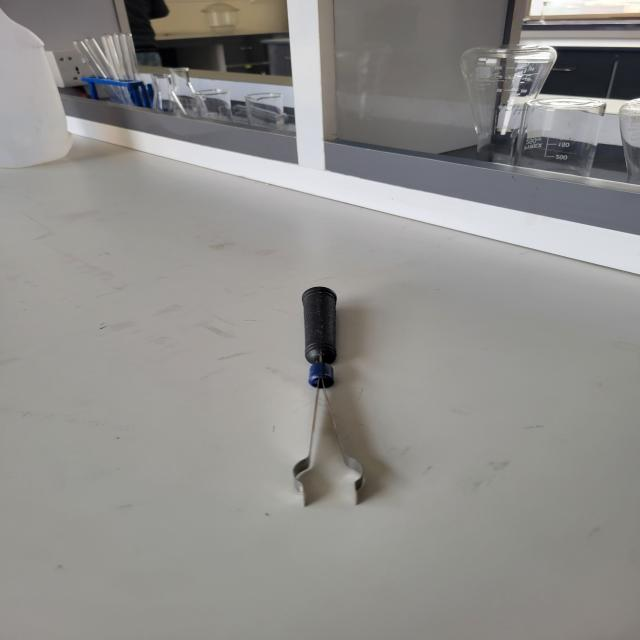TestTube_Holder: (214, 229, 409, 538)
